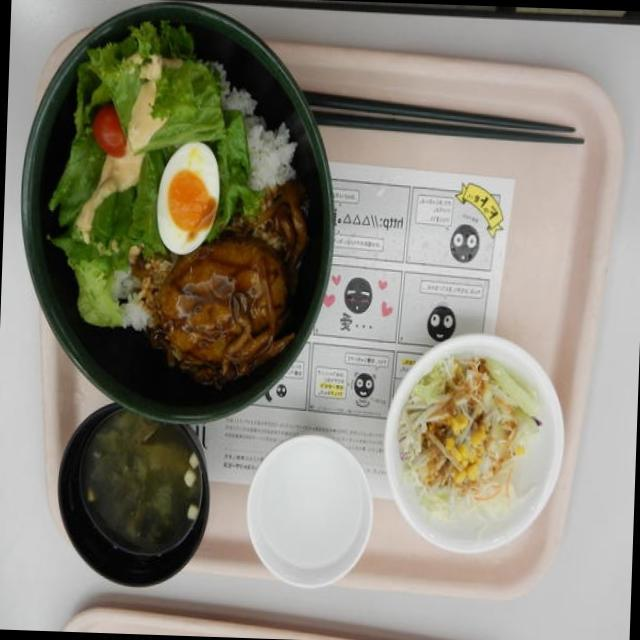Egg: (156, 138, 224, 254)
Green Salad: (390, 368, 541, 534)
